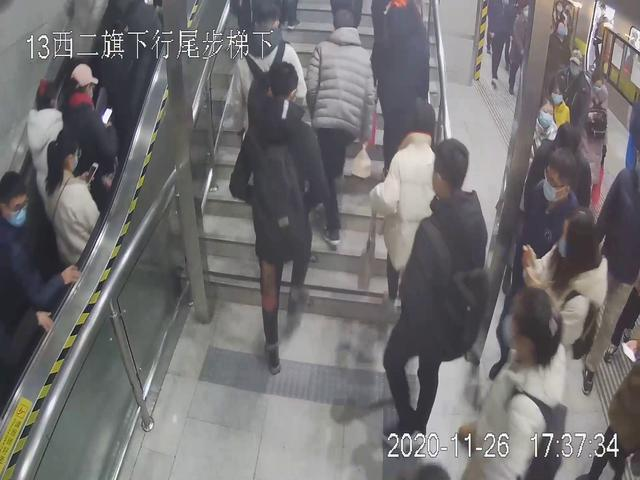person: (379, 138, 487, 433), (235, 65, 320, 381), (517, 206, 612, 440), (302, 3, 375, 249), (477, 287, 573, 474), (50, 62, 122, 233), (44, 131, 109, 284)
